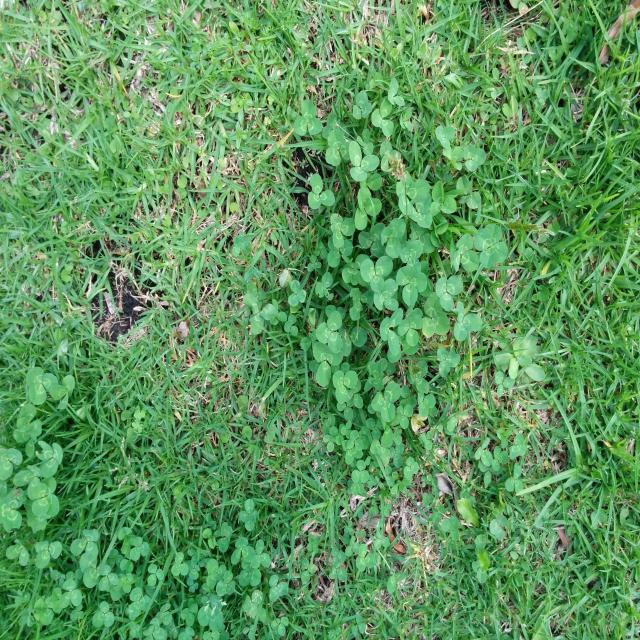Four Leaf Clover: (473, 224, 508, 268)
